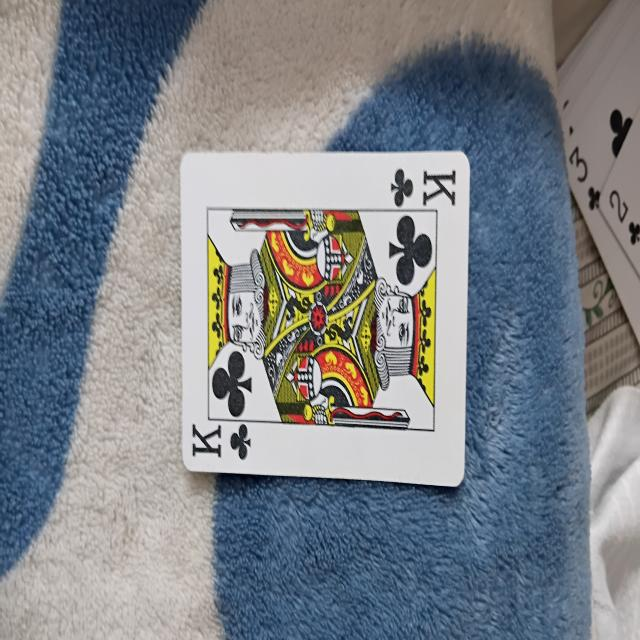KC: (180, 154, 470, 486)
